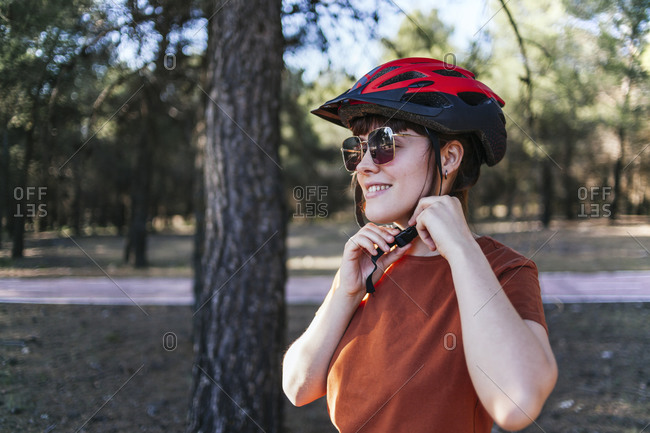helmet: (311, 57, 508, 225)
